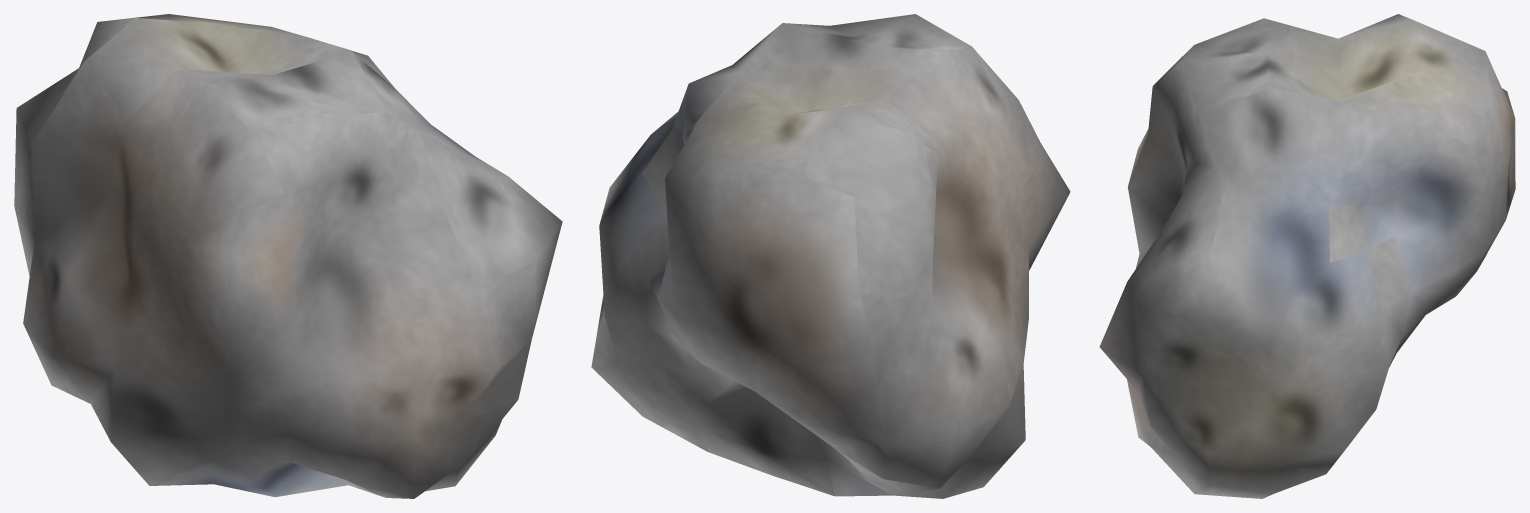
File: Asteroid_1.fbx
3 views of the same model, side by side, from view 1: azimuth 30°, elevation 25°; view 2: azimuth 150°, elevation 25°; view 3: azimuth 270°, elevation 25° (orthographic). The views are drawn at different scales.
Parts seen in each view (by area): view 1: pCube1; view 2: pCube1; view 3: pCube1.
Boxes of the visible parts, x1,y1,x2,y2 form: pCube1: (14, 14, 562, 498); pCube1: (591, 14, 1070, 498); pCube1: (1099, 14, 1515, 498).
Bounding box in the file's own units: 10.94 × 10.84 × 10.33.
